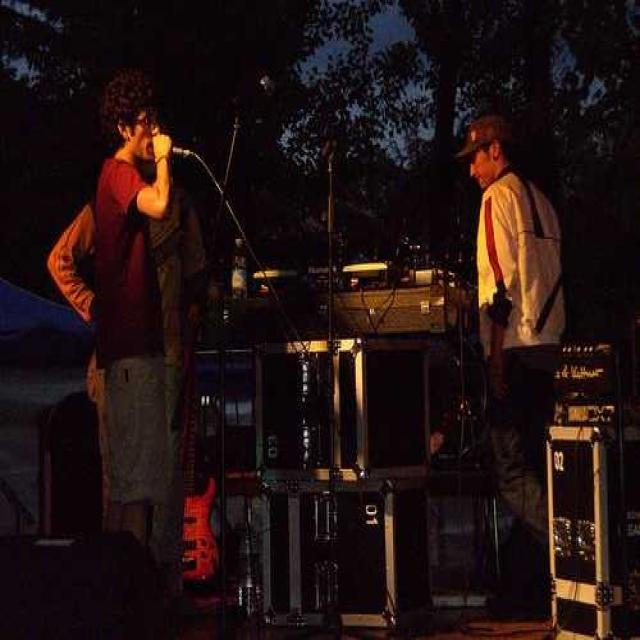microphone: (322, 97, 360, 167), (237, 73, 280, 109), (148, 140, 202, 160)
